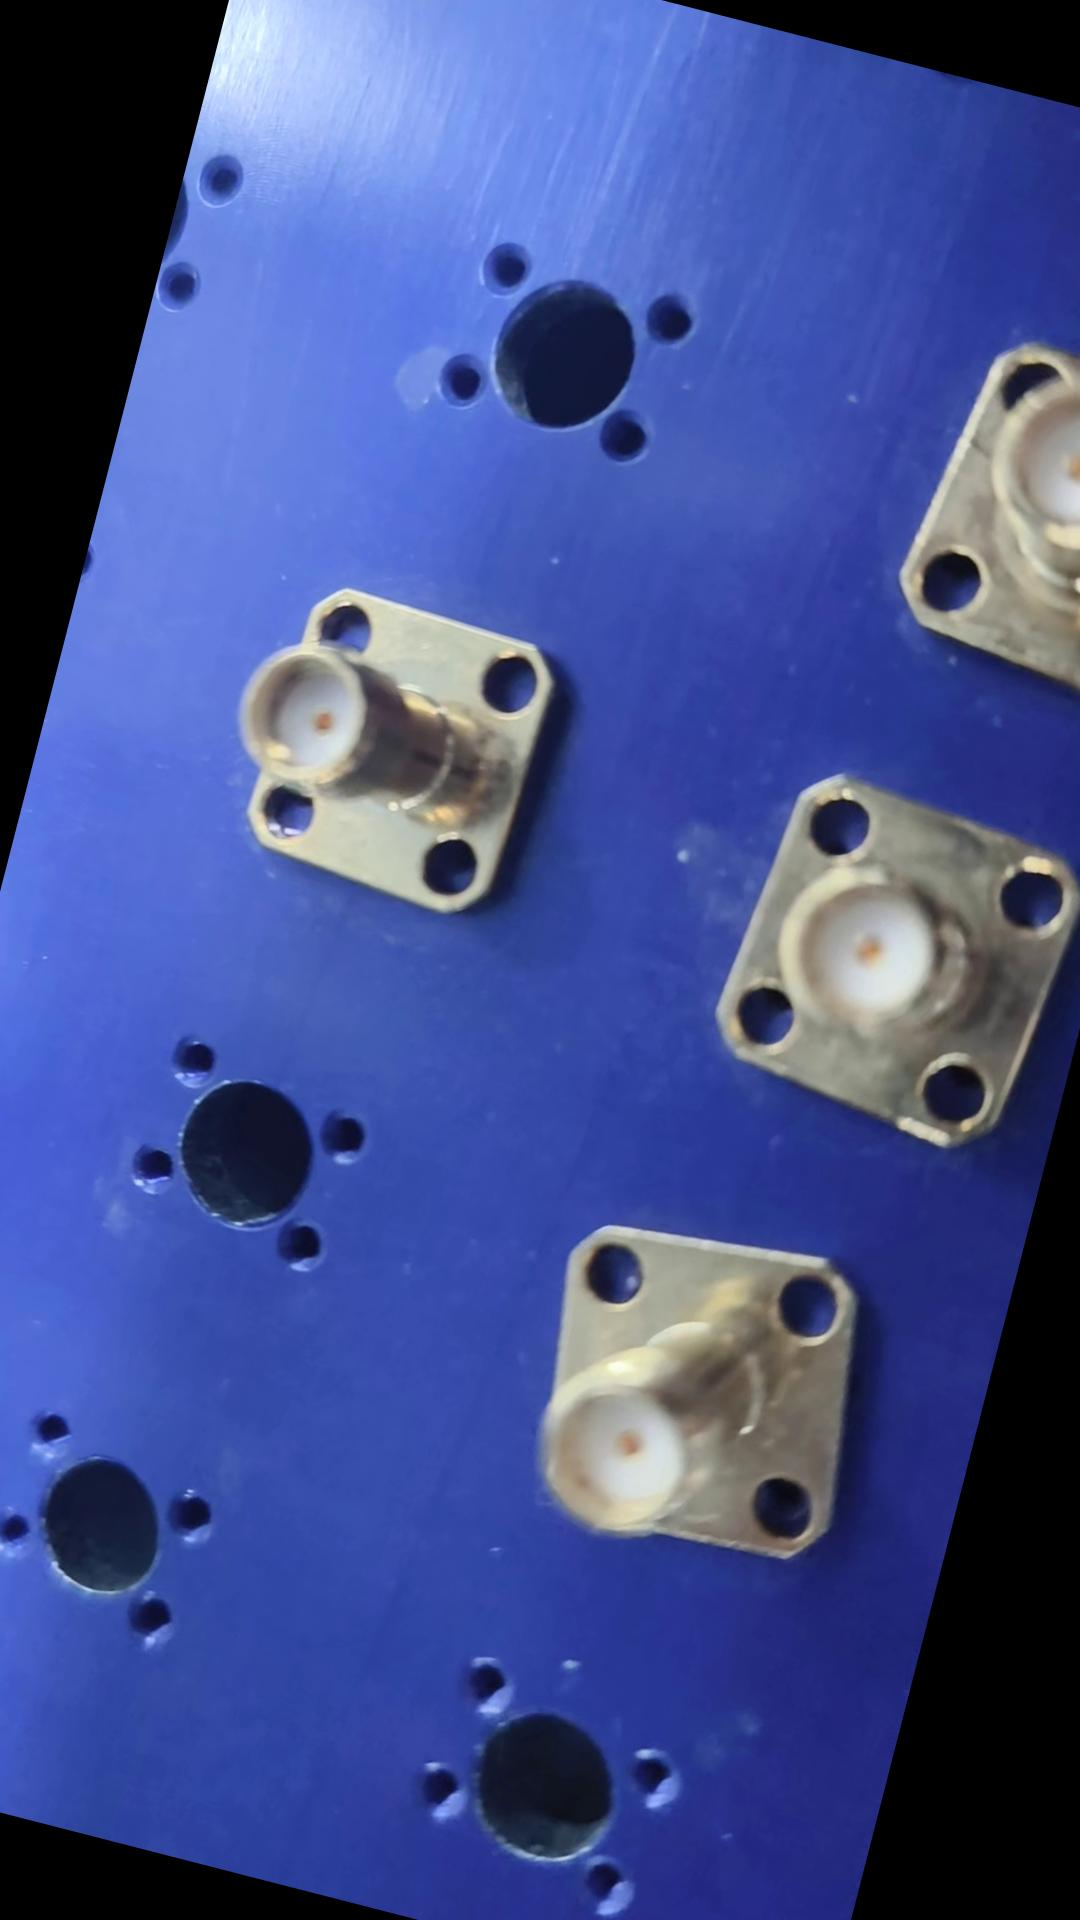SMA: (702, 744, 1079, 1127), (522, 1195, 923, 1555), (196, 576, 559, 939), (840, 285, 1079, 682)
